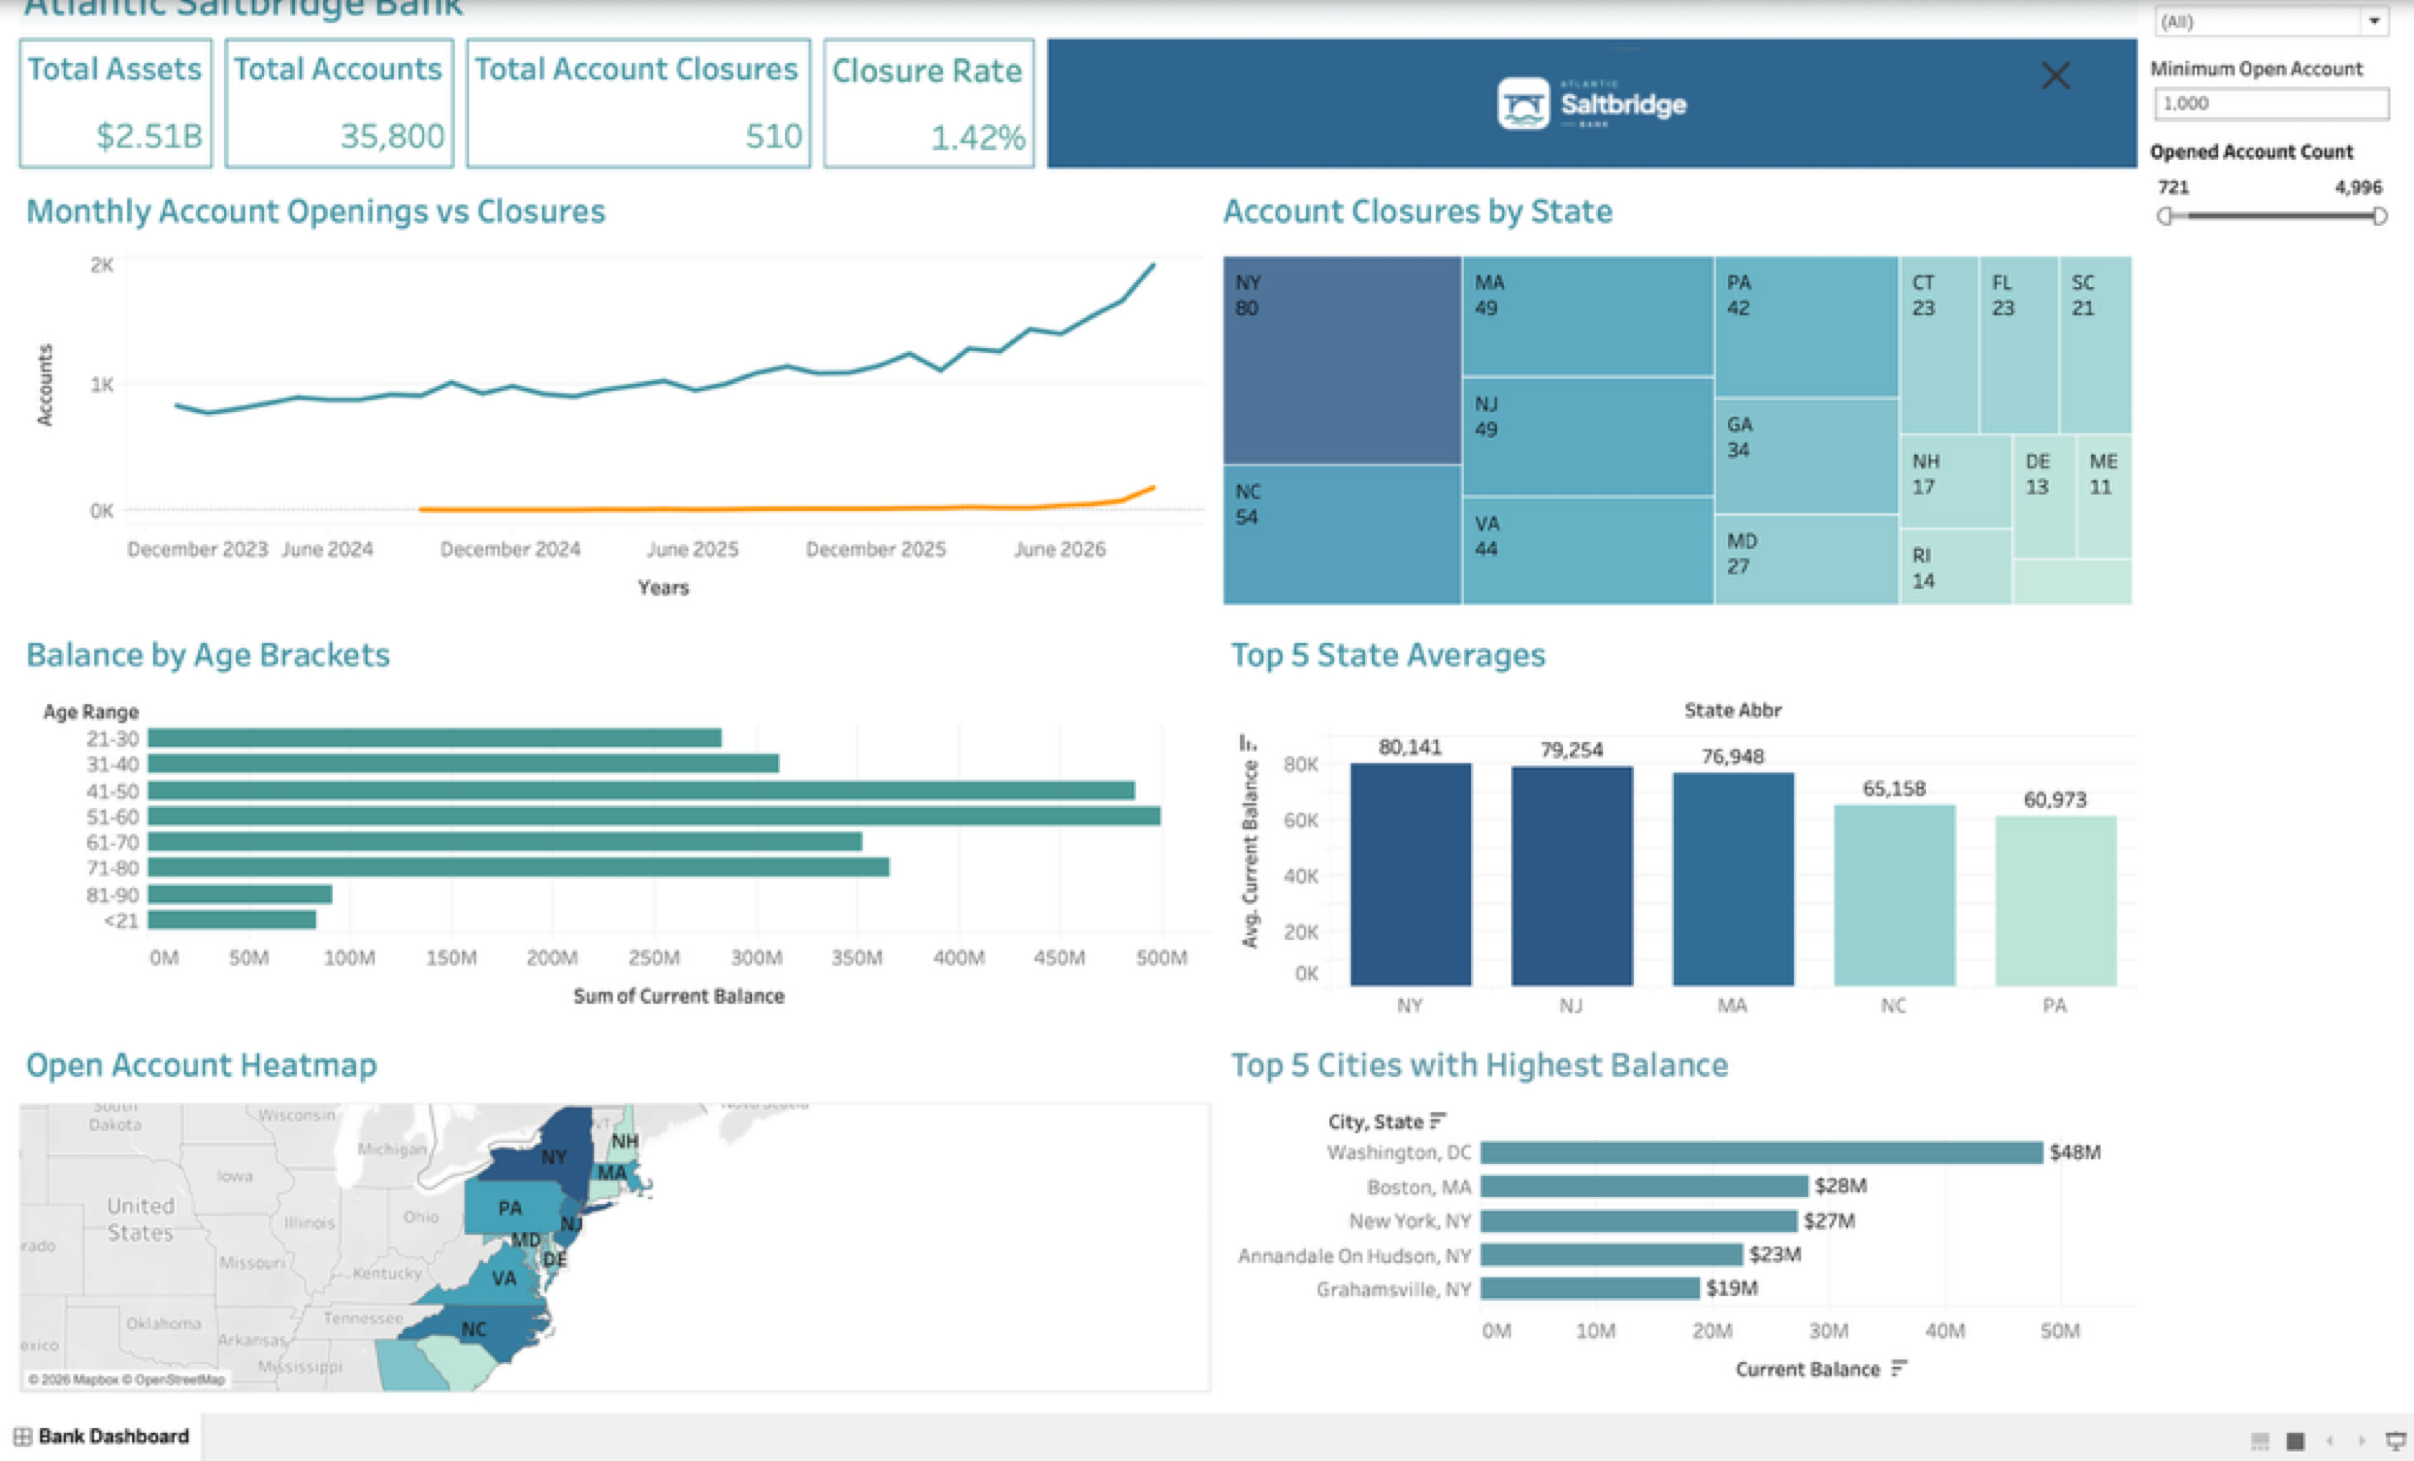

What the dashboard file says about the page in this screenshot:
{"tool":"tableau","page":{"name":"Bank Dashboard","canvas":[1000,1000],"units":"permille","ordinal":0},"visuals":[{"type":"text","box":[5.4,10.6,882.9,45.5]},{"type":"filter","title":"Monthly Account Growth","param":"[federated.letbm7d9fv66wz6kl415rqxvsec0].[yr:ActivityDate:ok]","box":[888.3,10.6,106.3,69.2]},{"type":"worksheet","title":"Total Assets","mark":"Automatic","box":[5.4,56.2,86.8,97]},{"type":"worksheet","title":"Total Accts","mark":"Automatic","box":[92.2,56.2,101.6,97]},{"type":"worksheet","title":"Total Account Closures","mark":"Automatic","box":[193.8,56.2,150.7,97]},{"type":"worksheet","title":"Closure Rate","mark":"Automatic","box":[344.5,56.2,94.2,97]},{"type":"image","param":"Image/On dark background@1x.png","box":[438.8,56.2,449.5,97]},{"type":"dashboard-object","box":[842.4,70.3,18.4,28.1]},{"type":"parameter","param":"[Parameters].[Parameter 6708248805560326]","box":[888.3,79.8,106.3,69.2]},{"type":"filter","title":"Open Account Heatmap","param":"[federated.16seekb01f350j160mwsg1h10zi6].[usr:Calculation_6624960450555906:qk]","box":[888.3,148.9,106.3,91.8]},{"type":"worksheet","title":"Monthly Account Growth","mark":"Line","rows":["Account_Events_FC129559B27FD92AB32E44EF5A56C56B"],"cols":["ActivityDate"],"box":[5.4,153.2,495.6,303]},{"type":"worksheet","title":"Closed Account Heatmap","mark":"Automatic","box":[501,153.2,387.3,303]},{"type":"worksheet","title":"Age Brackets","mark":"Automatic","rows":["F1"],"cols":["F4"],"box":[5.4,456.2,499.3,279.1]},{"type":"worksheet","title":"Top 5 State Averages","mark":"Automatic","rows":["CurrentBalance"],"cols":["StateAbbr"],"box":[504.7,456.2,383.6,279.1]},{"type":"worksheet","title":"Open Account Heatmap","mark":"Automatic","box":[5.4,735.4,499.5,254]},{"type":"worksheet","title":"Top 5 CIties","mark":"Automatic","rows":["Calculation_7001000000000003"],"cols":["CurrentBalance"],"box":[504.9,735.4,383.4,254]}]}

Visuals, with their boxes on the dashboard's canvas, which has no fixed pixel size, in thousandths of its width and height (x1, y1, x2, y2). These are canvas units, not pixel positions in the 2414x1461 screenshot, which may show the page scaled, cropped or inside an application window:
text: (left=5, top=11, right=888, bottom=56)
"Monthly Account Growth" filter: (left=888, top=11, right=995, bottom=80)
"Total Assets" worksheet: (left=5, top=56, right=92, bottom=153)
"Total Accts" worksheet: (left=92, top=56, right=194, bottom=153)
"Total Account Closures" worksheet: (left=194, top=56, right=344, bottom=153)
"Closure Rate" worksheet: (left=344, top=56, right=439, bottom=153)
image: (left=439, top=56, right=888, bottom=153)
dashboard-object: (left=842, top=70, right=861, bottom=98)
parameter: (left=888, top=80, right=995, bottom=149)
"Open Account Heatmap" filter: (left=888, top=149, right=995, bottom=241)
"Monthly Account Growth" worksheet (Line marks): (left=5, top=153, right=501, bottom=456)
"Closed Account Heatmap" worksheet: (left=501, top=153, right=888, bottom=456)
"Age Brackets" worksheet: (left=5, top=456, right=505, bottom=735)
"Top 5 State Averages" worksheet: (left=505, top=456, right=888, bottom=735)
"Open Account Heatmap" worksheet: (left=5, top=735, right=505, bottom=989)
"Top 5 CIties" worksheet: (left=505, top=735, right=888, bottom=989)
